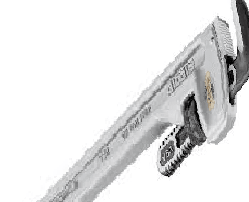Wrench: (27, 1, 249, 202)
